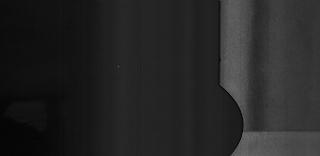welding line: (242, 127, 318, 135)
